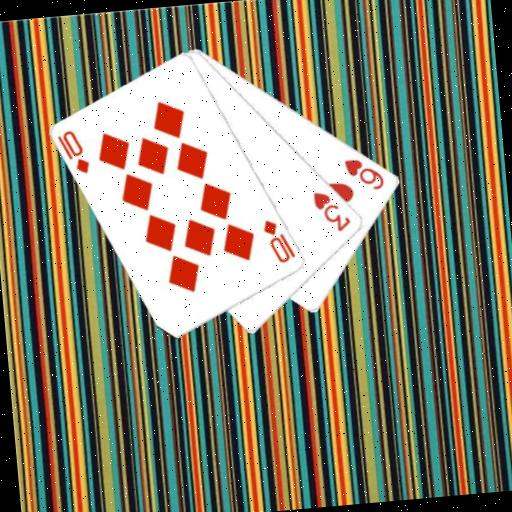10D: (54, 126, 93, 178), (260, 215, 298, 267)
3H: (310, 186, 354, 236)
6H: (341, 153, 388, 194)
